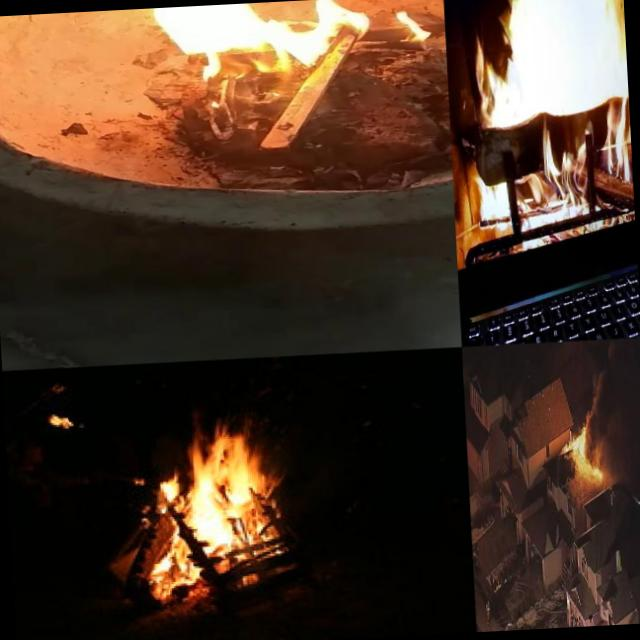fire: (458, 0, 636, 239), (114, 412, 295, 596), (136, 0, 403, 93), (566, 422, 588, 457), (592, 461, 604, 482)
smoke: (582, 372, 622, 466)
